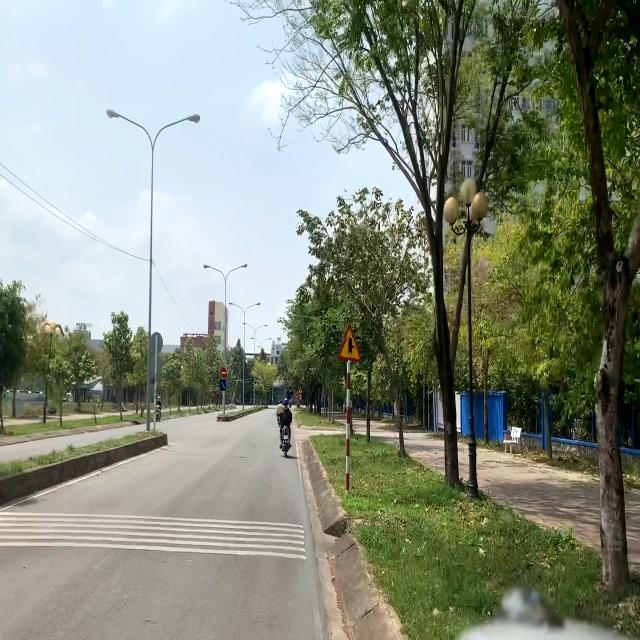bien_cam: (336, 323, 362, 362), (220, 379, 227, 391), (220, 367, 227, 379), (298, 386, 303, 394), (298, 394, 303, 401)
